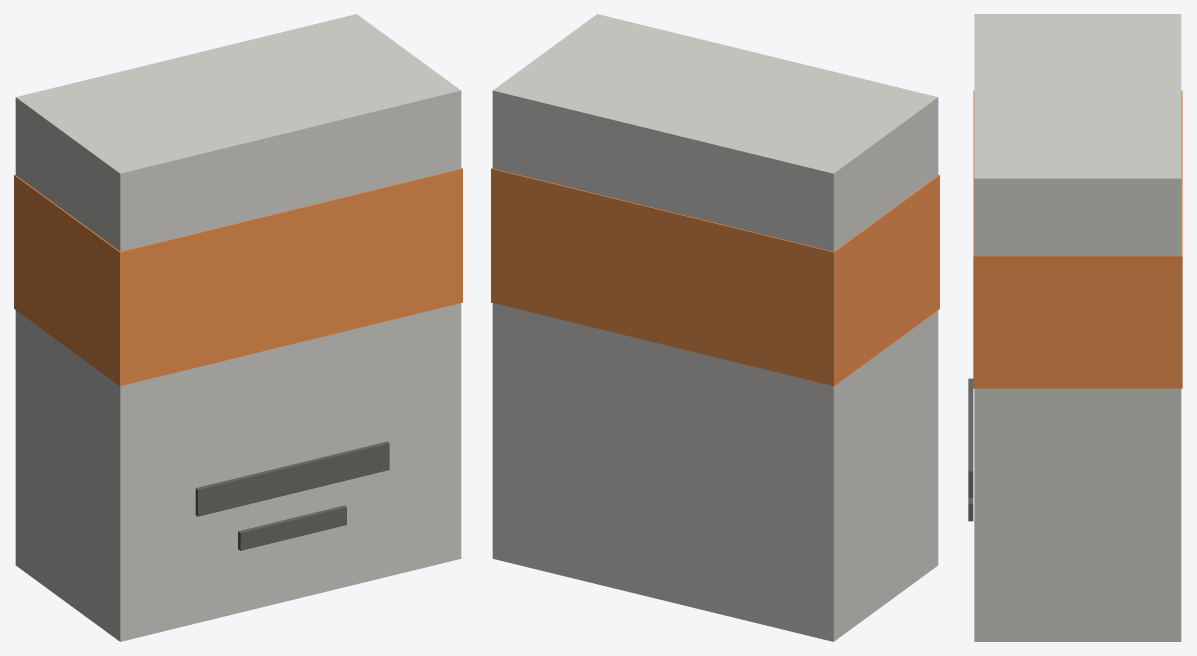
Rendered from nesomn-product-box.glb.
3 renders of one model, left to right at view 1: azimuth 30°, elevation 25°; view 2: azimuth 150°, elevation 25°; view 3: azimuth 270°, elevation 25°, orthographic.
Parts seen in each view (by area): view 1: Product Box 0, Product Box 1, Product Box 2, Product Box 3; view 2: Product Box 0, Product Box 1; view 3: Product Box 0, Product Box 1, Product Box 2.
Boxes of the visible parts, x1,y1,x2,y2 form: Product Box 0: (15,14,461,641); Product Box 1: (14,168,462,385); Product Box 2: (195,441,389,516); Product Box 3: (238,505,346,550); Product Box 0: (492,14,938,641); Product Box 1: (491,168,939,385); Product Box 0: (974,14,1181,641); Product Box 1: (973,90,1182,388); Product Box 2: (968,378,973,497).
Bounding box in the file's own units: 1.61 × 2.1 × 0.88.
